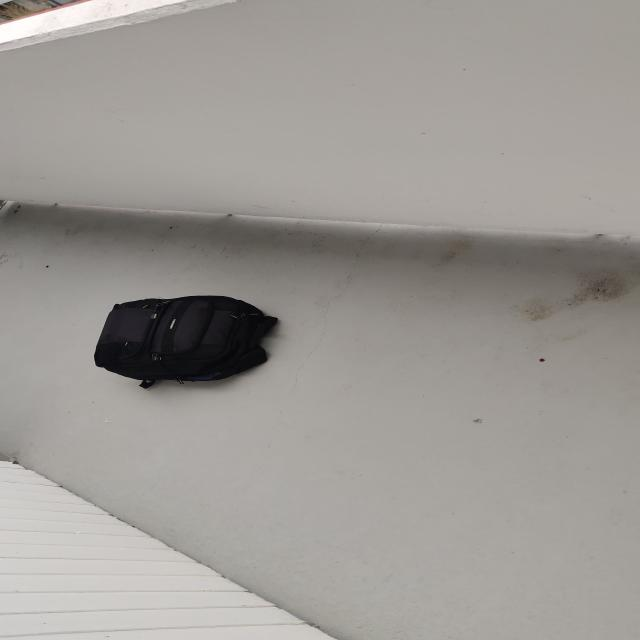backpack: (84, 291, 284, 385)
